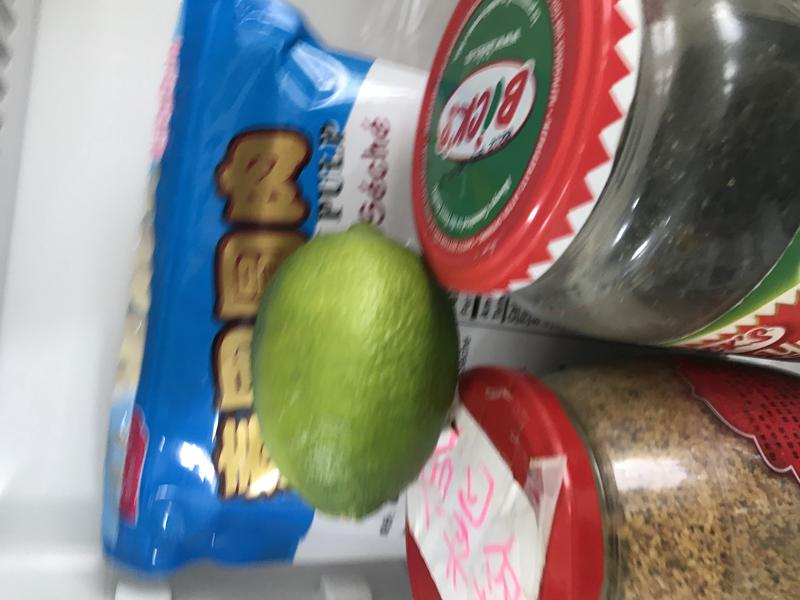lime: (245, 210, 472, 525)
